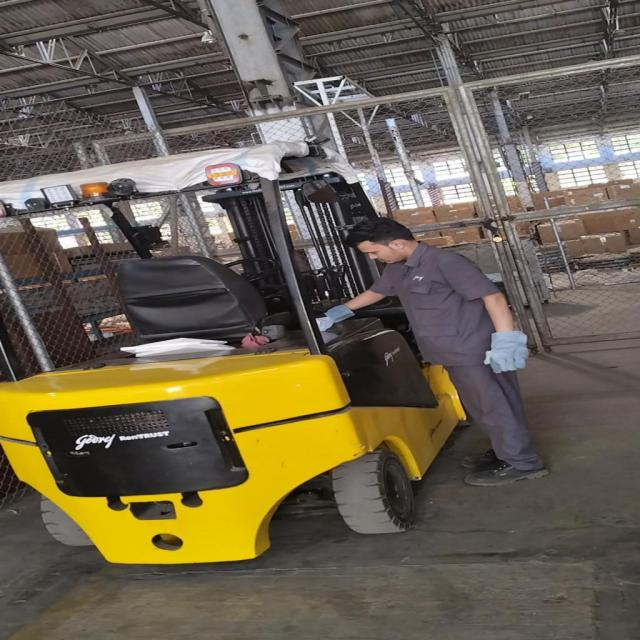Gloves-Detection: (480, 328, 526, 376), (316, 306, 349, 325)
